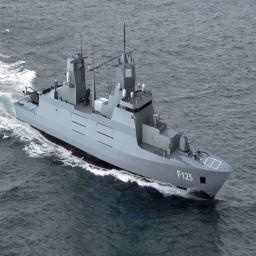Fragata: (11, 8, 236, 204)
